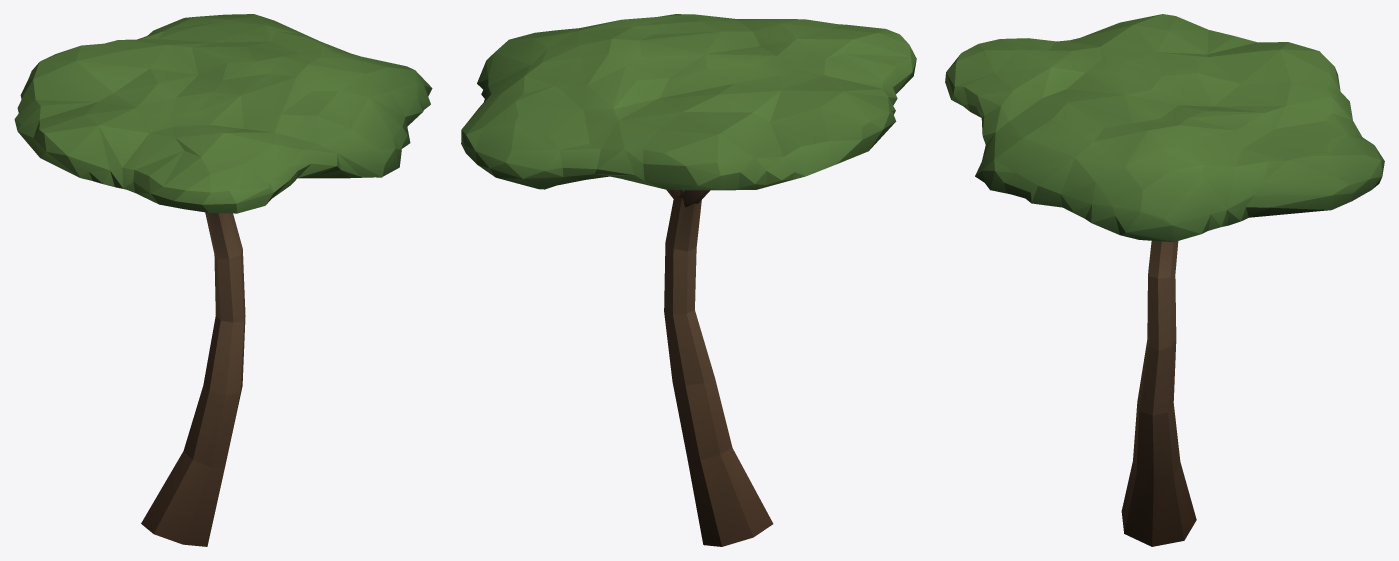
File: pinia_3.glb
3 views of the same model, side by side, from view 1: azimuth 30°, elevation 25°; view 2: azimuth 150°, elevation 25°; view 3: azimuth 270°, elevation 25° (orthographic). The views are drawn at different scales.
Visible parts, largest first — view 1: pinia_3; view 2: pinia_3; view 3: pinia_3.
Part boxes in pixels (x1,y1,x2,y2): pinia_3: [14, 14, 432, 546]; pinia_3: [461, 14, 916, 546]; pinia_3: [945, 14, 1384, 546].
Bounding box in the file's own units: 2.1 × 2.42 × 2.07.
